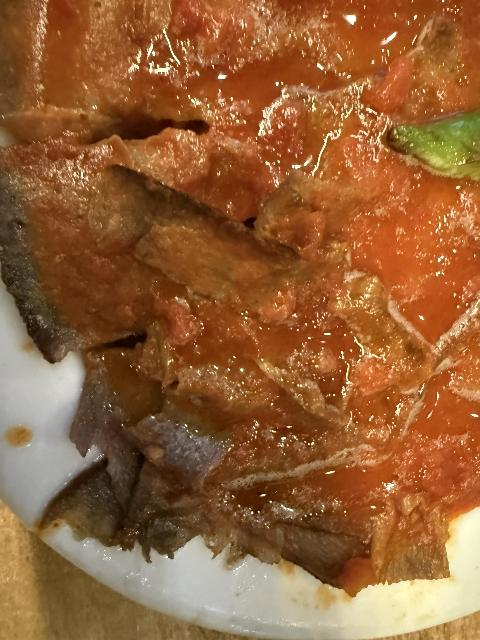Organik: (0, 181, 313, 338), (35, 456, 157, 549), (381, 113, 480, 183)
